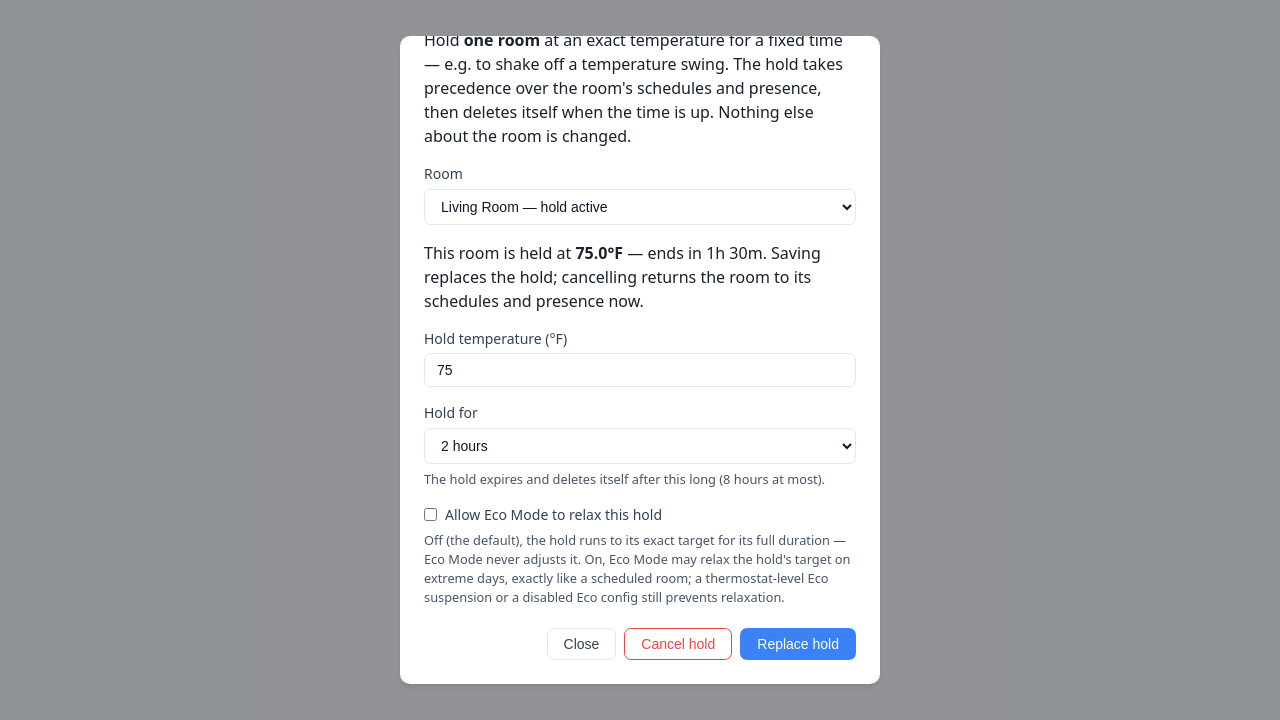
Test: HoldModal (Issue #576) › surfaces a cancel-hold failure as an inline error and stays open
The width and height of the screenshot is (1280, 720).
(page scrolled)
Click the button with test id "hold-modal-cancel-hold" at [678, 644], box [624,628,732,660]
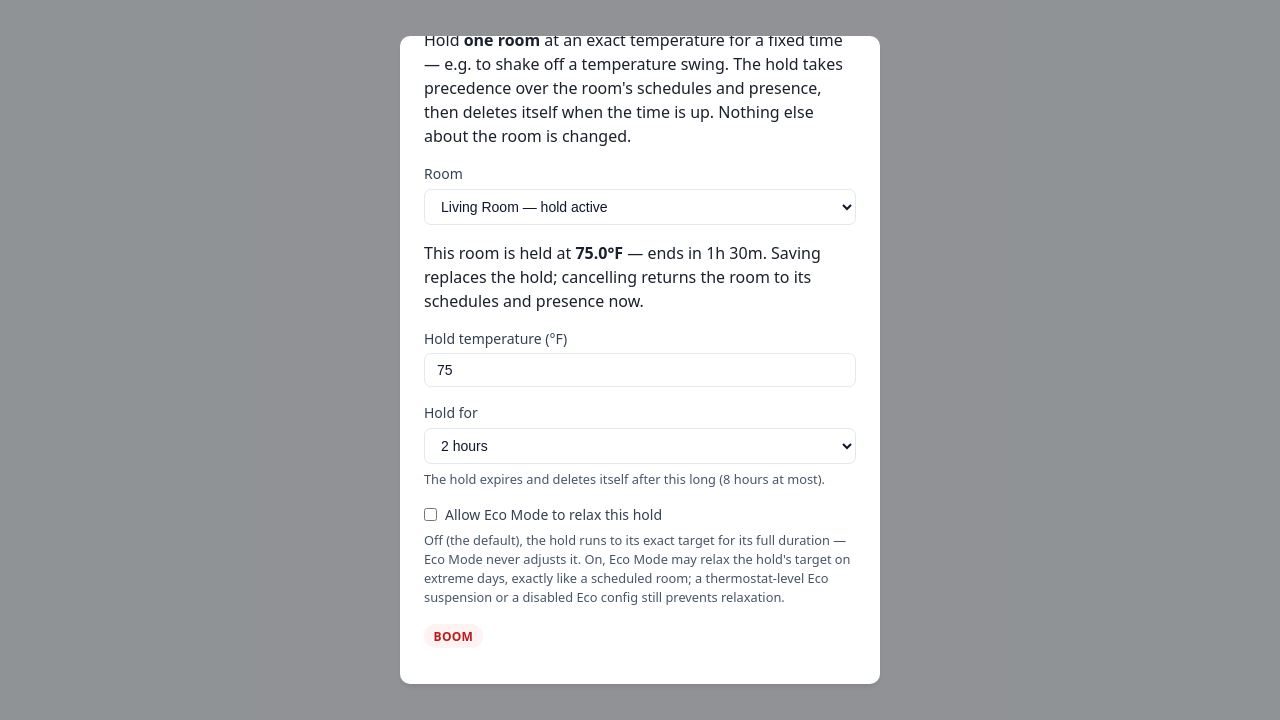
expect the text "boom" is shown: met, box [424,624,483,648]
